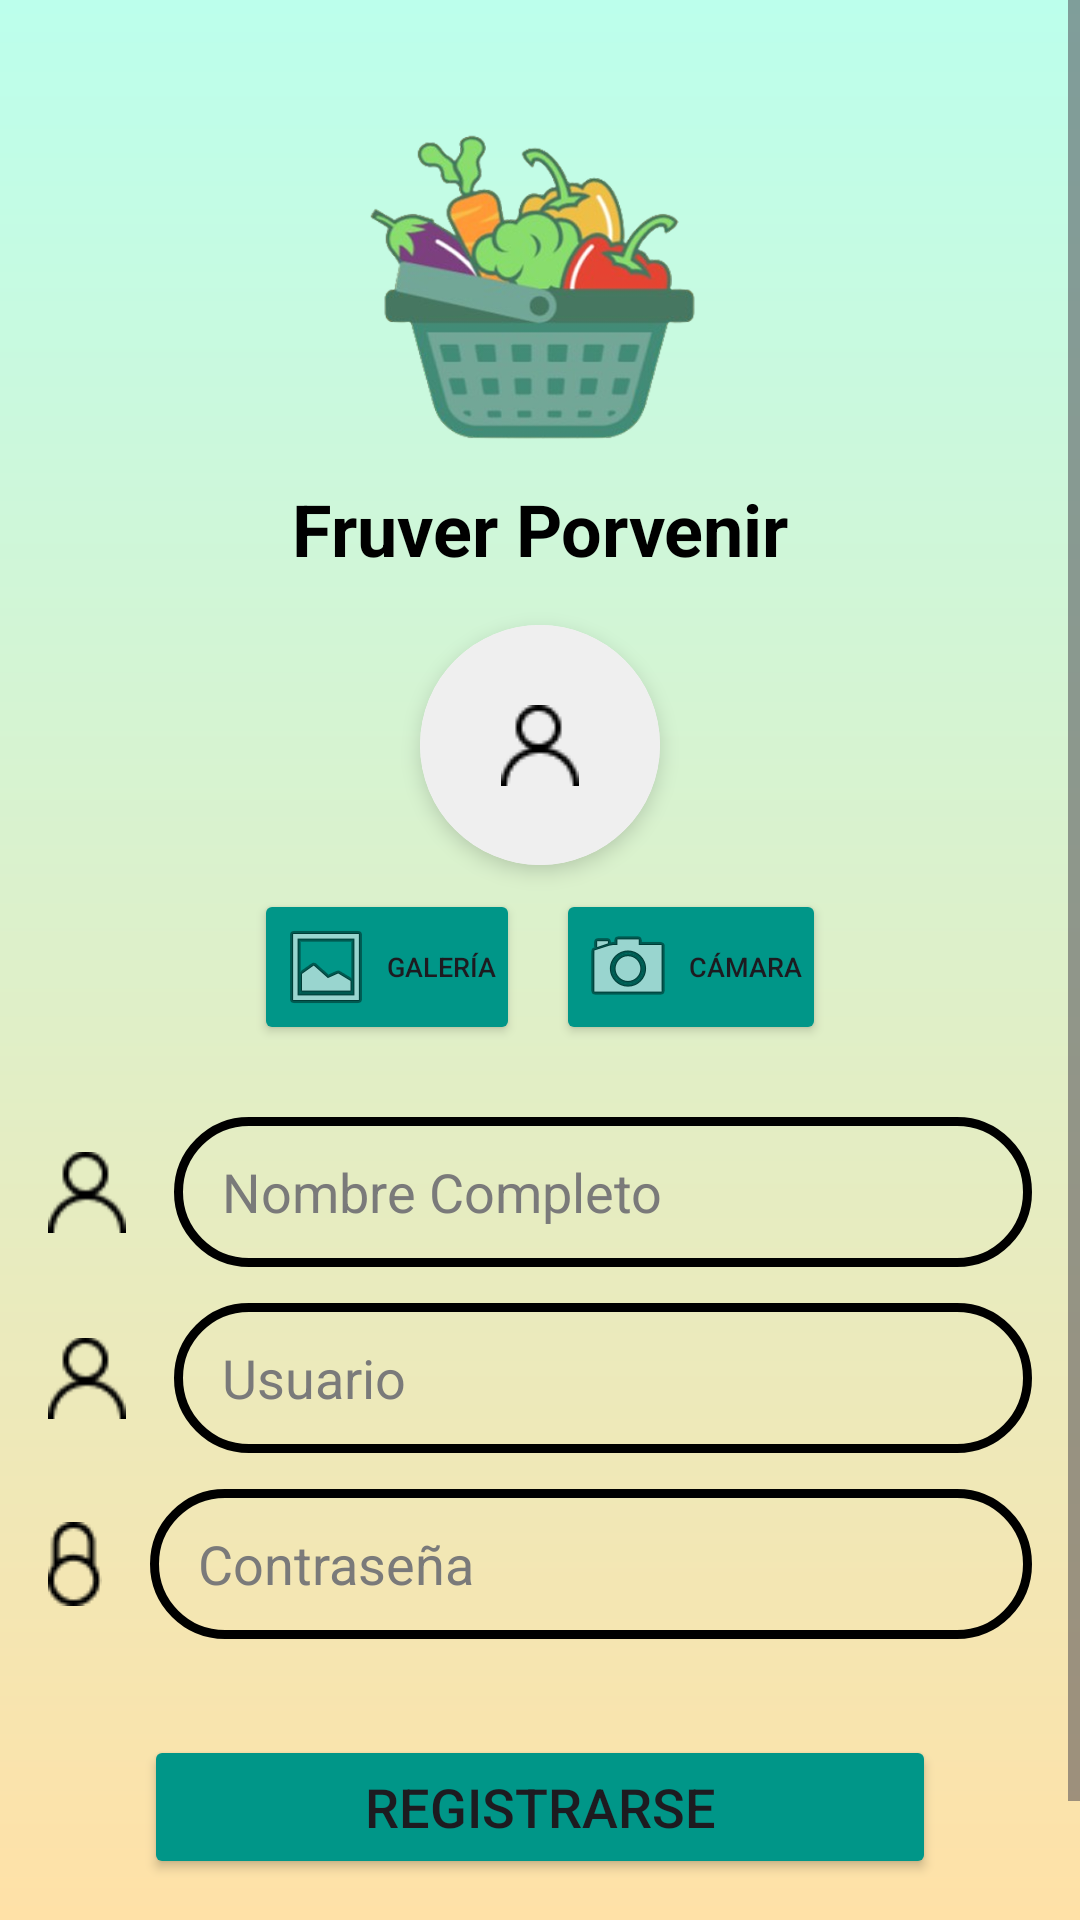

Where to tap for icons on this 1080x1920 app screen, as point (x, y):
Foto de Perfil: point (540, 745)
